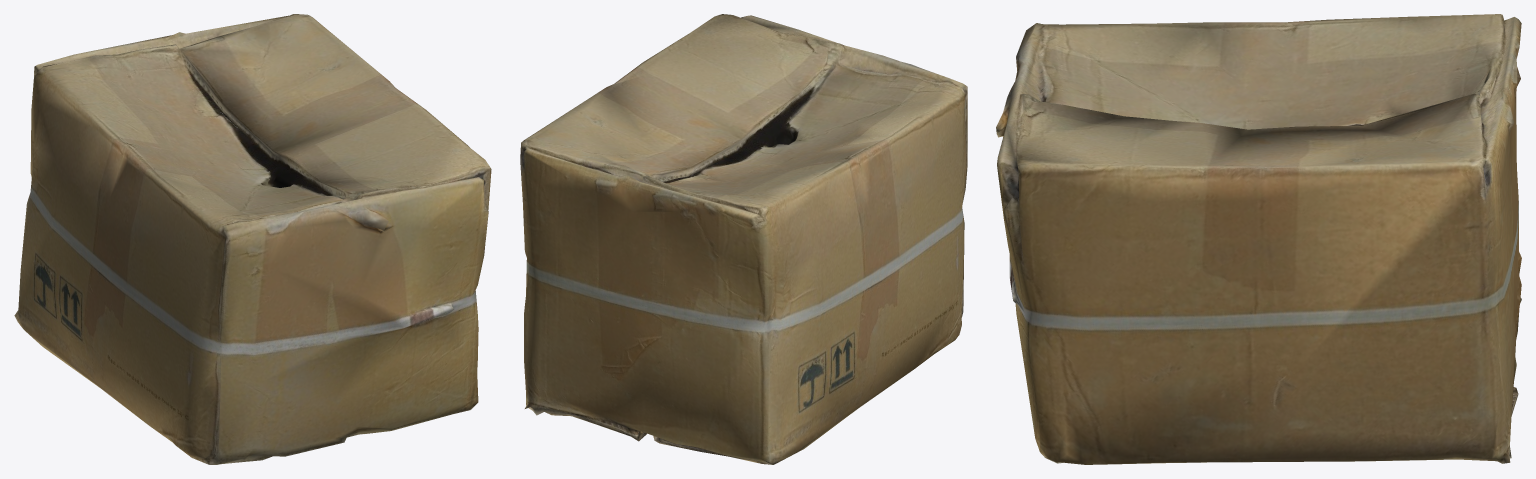
File: cardboard_box_01.glb
The picture shows the model from 3 angles, left to right: view 1: azimuth 30°, elevation 25°; view 2: azimuth 150°, elevation 25°; view 3: azimuth 270°, elevation 25°; orthographic projection. The views are drawn at different scales.
Visible parts, largest first — view 1: cardboard_box_01; view 2: cardboard_box_01; view 3: cardboard_box_01.
Boxes of the visible parts, left/top/right/bottom form: cardboard_box_01: left=14, top=14, right=491, bottom=464; cardboard_box_01: left=520, top=14, right=967, bottom=464; cardboard_box_01: left=996, top=14, right=1521, bottom=464.
Size of the model in its own units: 0.3864 by 0.3407 by 0.5159.
Materials: 1 (1 with a texture image).
